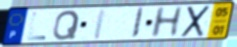H: (149, 5, 186, 39)
I: (129, 7, 146, 40), (91, 8, 108, 41)
L: (26, 11, 48, 42)
Q: (51, 9, 82, 42)
X: (179, 4, 212, 39)
